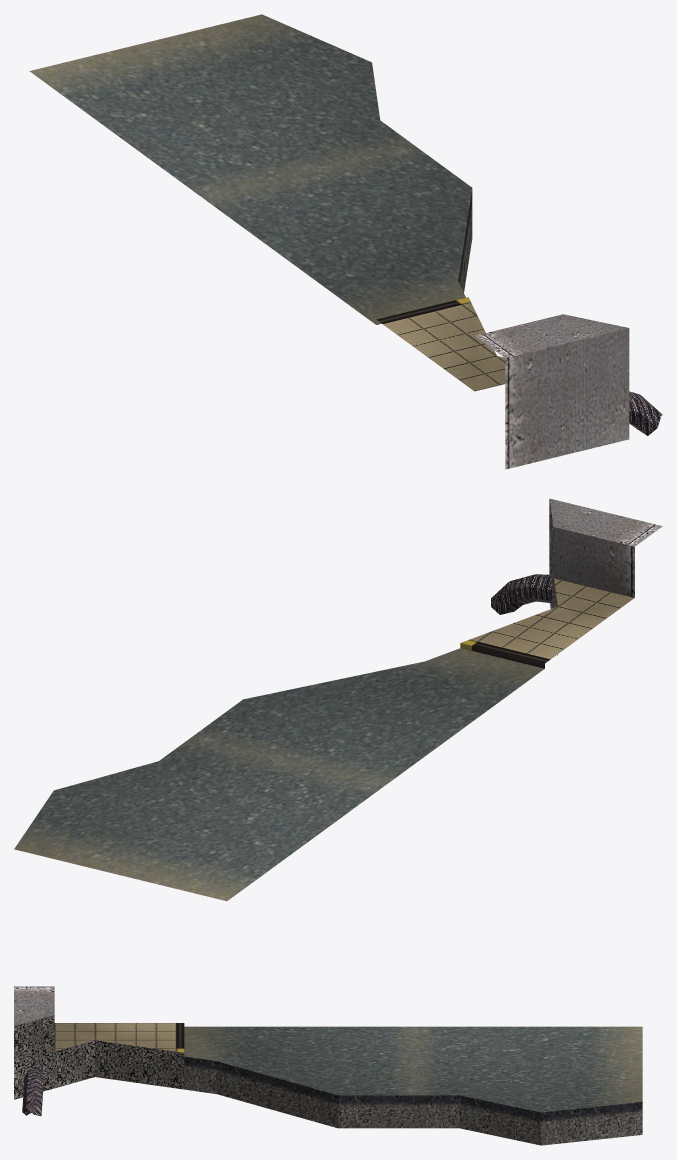
Rendered from M2_Zone4_FlyOver6_G.glb.
The picture shows the model from 3 angles, top to bottom: view 1: azimuth 30°, elevation 25°; view 2: azimuth 150°, elevation 25°; view 3: azimuth 270°, elevation 25°; orthographic projection. The views are drawn at different scales.
Visible parts, largest first — view 1: M2_ZONE4_FLYOVER6_G; view 2: M2_ZONE4_FLYOVER6_G; view 3: M2_ZONE4_FLYOVER6_G.
Boxes of the visible parts, x1,y1,x2,y2 form: M2_ZONE4_FLYOVER6_G: (29, 14, 662, 469); M2_ZONE4_FLYOVER6_G: (14, 498, 662, 901); M2_ZONE4_FLYOVER6_G: (14, 986, 642, 1145).
Size of the model in its own units: 5 by 2.19 by 16.
Materials: 8 (8 with a texture image).
